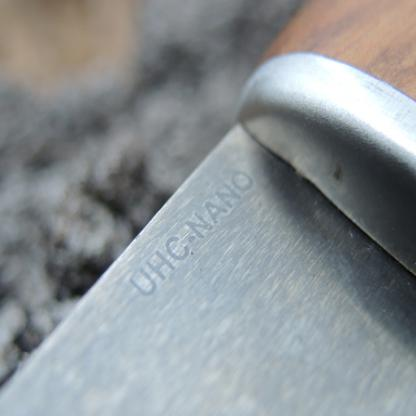knife: (0, 0, 415, 415), (224, 67, 415, 415)
